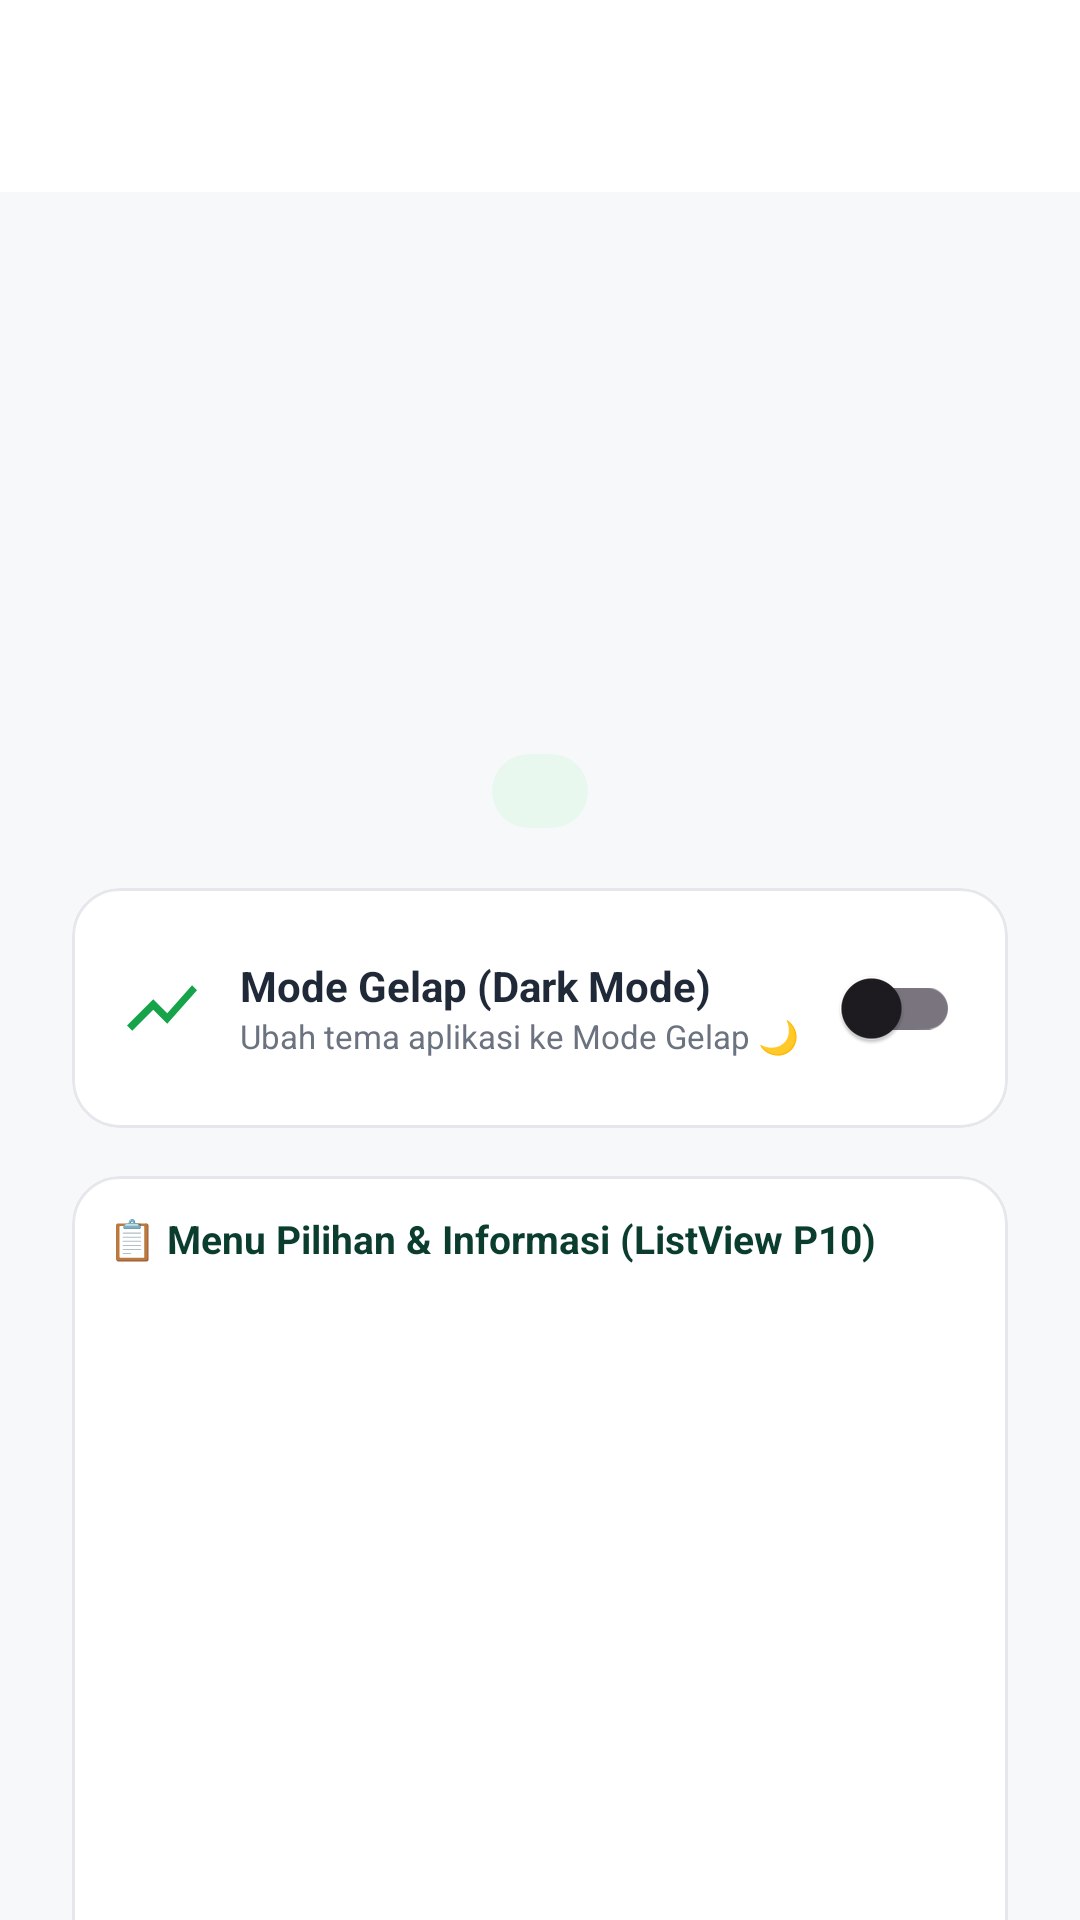

Locate icon controls on the screen. Image size 1080×1920, boxes as [x1=x1, y1=y1, x2=x2, y2=y2].
show chart: [x1=127, y1=985, x2=197, y2=1031]
